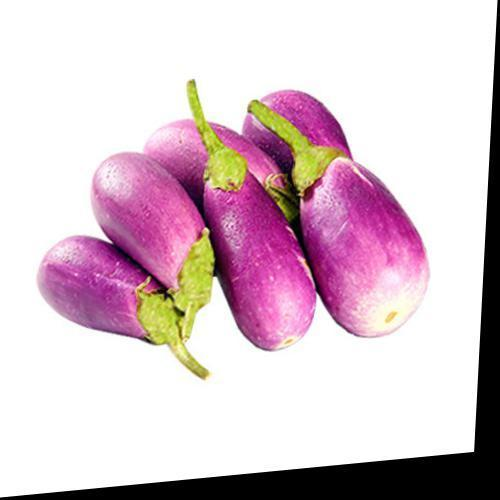eggplant: (56, 83, 432, 377)
